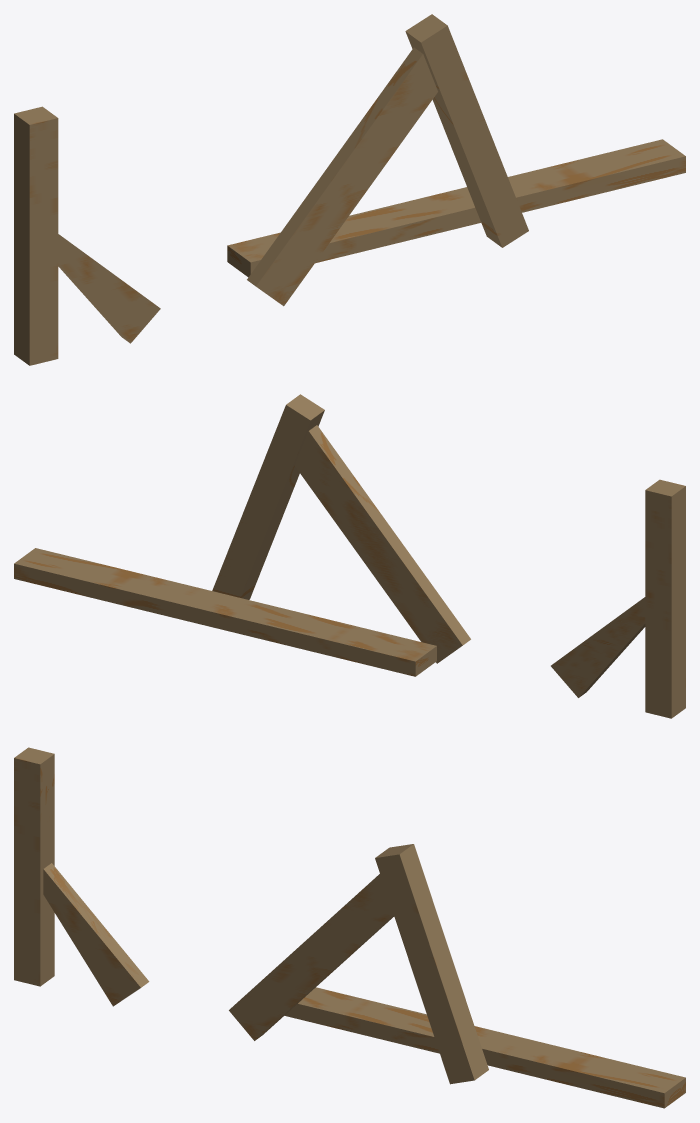
The model's file is brokenfence.glb.
3 renders of one model, top to bottom at view 1: azimuth 30°, elevation 25°; view 2: azimuth 150°, elevation 25°; view 3: azimuth 330°, elevation 25°, orthographic. The views are drawn at different scales.
Visible parts, largest first — view 1: Cube.004; view 2: Cube.004; view 3: Cube.004.
Part boxes in pixels (box(x1,y1,x2,y2)): Cube.004: box(14, 14, 685, 365); Cube.004: box(14, 394, 685, 718); Cube.004: box(14, 747, 685, 1108).
Bounding box in the file's own units: 10.94 × 3.79 × 1.33.
1 material, 1 textured.
